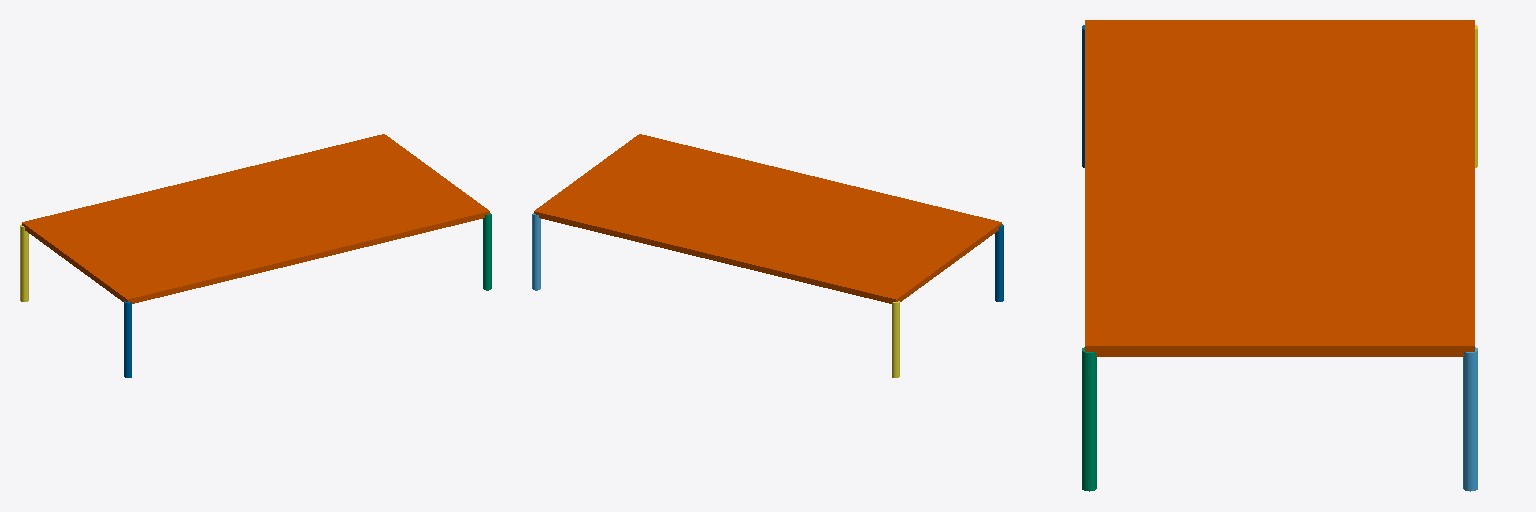
robot.urdf — table:
<?xml version='1.0'?>
<robot name="table">

<link name="world"/>

<joint name = "joint_fix_1" type = "fixed">
  <parent link="world"/>
  <child link = "front_left_leg"/>
</joint>


<link name ="front_left_leg">
  <collision>
    <origin xyz="1.0 0.5 0" rpy="0 0 0"/>
    <geometry>
      <cylinder length="0.4" radius="0.02"/>
    </geometry>
  </collision>

  <visual>
    <origin xyz="1.0 0.5 0" rpy="0 0 0"/>
    <geometry>
      <cylinder length="0.4" radius="0.02"/>
    </geometry>
  </visual>

  <inertial>
    <origin xyz="1.0 0.5 0" rpy="0 0 0"/>
    <mass value="0.05" />
    <inertia
      ixx="0.001" ixy="0.0"  ixz="0.0"
      iyy="0.001" iyz="0.0"
      izz="0.001" />
  </inertial>
</link>

<joint name = "joint_fix_2" type = "fixed">
  <parent link="world"/>
  <child link = "front_right_leg"/>
</joint>


<link name ="front_right_leg">
  <collision>
    <origin xyz="1.0 -0.5 0" rpy="0 0 0"/>
    <geometry>
      <cylinder length="0.4" radius="0.02"/>
    </geometry>
  </collision>

  <visual>
    <origin xyz="1.0 -0.5 0" rpy="0 0 0"/>
    <geometry>
      <cylinder length="0.4" radius="0.02"/>
    </geometry>
  </visual>

  <inertial>
    <origin xyz="1.0 -0.5 0" rpy="0 0 0"/>
    <mass value="0.05" />
    <inertia
      ixx="0.001" ixy="0.0"  ixz="0.0"
      iyy="0.001" iyz="0.0"
      izz="0.001" />
  </inertial>
</link>

<joint name = "joint_fix_3" type = "fixed">
  <parent link="world"/>
  <child link = "back_left_leg"/>
</joint>


<link name ="back_left_leg">
  <collision>
    <origin xyz="-1.0 0.5 0" rpy="0 0 0"/>
    <geometry>
      <cylinder length="0.4" radius="0.02"/>
    </geometry>
  </collision>

  <visual>
    <origin xyz="-1.0 0.5 0" rpy="0 0 0"/>
    <geometry>
      <cylinder length="0.4" radius="0.02"/>
    </geometry>
  </visual>

  <inertial>
    <origin xyz="-1.0 0.5 0" rpy="0 0 0"/>
    <mass value="0.05" />
    <inertia
      ixx="0.001" ixy="0.0"  ixz="0.0"
      iyy="0.001" iyz="0.0"
      izz="0.001" />
  </inertial>
</link>

<joint name = "joint_fix_4" type = "fixed">
  <parent link="world"/>
  <child link = "back_right_leg"/>
</joint>


<link name ="back_right_leg">
  <collision>
    <origin xyz="-1.0 -0.5 0" rpy="0 0 0"/>
    <geometry>
      <cylinder length="0.4" radius="0.02"/>
    </geometry>
  </collision>

  <visual>
    <origin xyz="-1.0 -0.5 0" rpy="0 0 0"/>
    <geometry>
      <cylinder length="0.4" radius="0.02"/>
    </geometry>
  </visual>

  <inertial>
    <origin xyz="-1.0 -0.5 0" rpy="0 0 0"/>
    <mass value="0.05" />
    <inertia
      ixx="0.001" ixy="0.0"  ixz="0.0"
      iyy="0.001" iyz="0.0"
      izz="0.001" />
  </inertial>
</link>

<joint name= "surface" type="fixed">
	<parent link="back_right_leg"/>
	<child link="tabletop"/>
</joint>

<link name ="tabletop">
  <collision>
    <origin xyz="0 0 0.2" rpy="0 0 0"/>
    <geometry>
      <box size="2.02 1.02 0.03"/>
    </geometry>
  </collision>

  <visual>
    <origin xyz="0 0 0.2" rpy="0 0 0"/>
    <geometry>
      <box size="2.02 1.02 0.03"/>
    </geometry>
  </visual>

  <inertial>
    <origin xyz="0 0 0.2" rpy="0 0 0"/>
    <mass value="0.05" />
    <inertia
      ixx="0.001" ixy="0.0"  ixz="0.0"
      iyy="0.001" iyz="0.0"
      izz="0.001" />
  </inertial>
</link>

<gazebo reference="front_left_leg">
	<material>Gazebo/Grey</material>
</gazebo>

<gazebo reference="front_right_leg">
	<material>Gazebo/Grey</material>
</gazebo>

<gazebo reference="back_left_leg">
	<material>Gazebo/Grey</material>
</gazebo>

<gazebo reference="back_right_leg">
	<material>Gazebo/Grey</material>
</gazebo>

<gazebo reference="tabletop">
	<material>Gazebo/Black</material>
</gazebo>

<gazebo>
	<static>true</static>
</gazebo>

</robot>

--- Render facts (derived) ---
3 views of the same robot in one strip: view 1: azimuth 30°, elevation 25°; view 2: azimuth 150°, elevation 25°; view 3: azimuth 270°, elevation 25° (orthographic).
Model table with 6 links and 5 joints (5 fixed), rooted at world, posed every joint at zero.
Links seen in each view (by area): view 1: tabletop, front_right_leg, back_left_leg, back_right_leg; view 2: tabletop, front_left_leg, back_right_leg, back_left_leg; view 3: tabletop, front_left_leg, front_right_leg.
Boxes of the visible links, left/top/right/bottom form: tabletop: left=22, top=134, right=489, bottom=303; front_right_leg: left=483, top=213, right=491, bottom=290; back_left_leg: left=20, top=224, right=28, bottom=301; back_right_leg: left=124, top=301, right=131, bottom=377; tabletop: left=534, top=134, right=1001, bottom=303; front_left_leg: left=532, top=213, right=540, bottom=290; back_right_leg: left=995, top=224, right=1003, bottom=301; back_left_leg: left=892, top=301, right=899, bottom=377; tabletop: left=1085, top=20, right=1474, bottom=356; front_left_leg: left=1463, top=347, right=1477, bottom=491; front_right_leg: left=1082, top=347, right=1096, bottom=491.
Bounding box of the posed robot: 2.04 × 1.04 × 0.415 m (x, y, z).
Geometry: primitives only (box / cylinder / sphere), no mesh files.